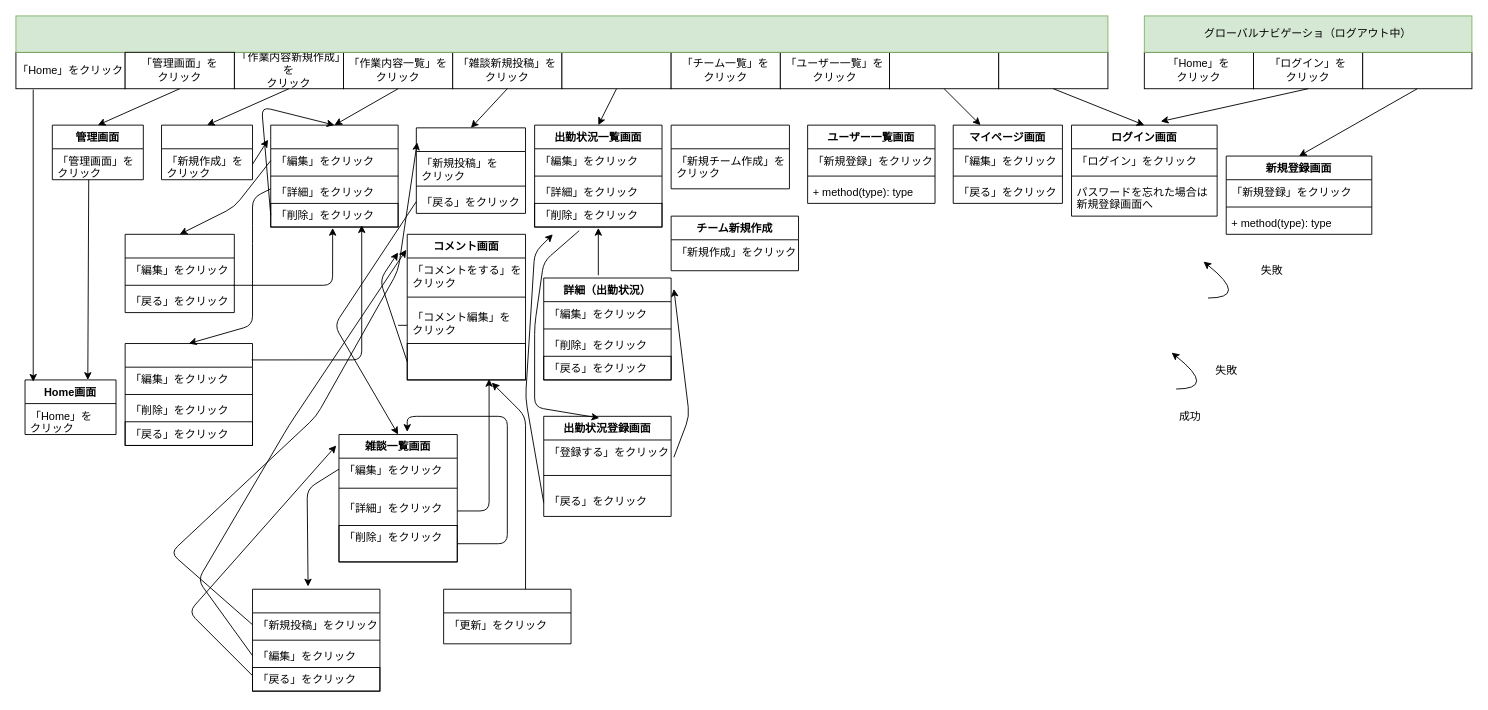
This 1488x710 diagram has some shape labels left out. Each missing label, with the box of its shape:
「コメント削除」を クリック: (406, 343, 526, 380)
「マイページ」を クリック: (889, 51, 999, 89)
「ログアウト」を クリック: (998, 51, 1108, 89)
「出勤状況」を クリック: (561, 51, 671, 89)
「新規登録」を クリック: (1362, 51, 1472, 89)
グローバルナビゲーション（ログイン中）/TeamWORKをクリックするとトップページへ: (15, 15, 1108, 52)
コメント編集: (443, 588, 571, 644)
チーム一覧画面: (670, 124, 789, 189)
作業内容一覧画面: (270, 124, 398, 227)
作業内容新規作成: (161, 124, 253, 180)
編集（作業内容）: (124, 233, 234, 313)
編集（雑談）: (252, 588, 380, 691)
詳細（作業内容）: (124, 343, 253, 445)
雑談新規投稿画面: (415, 127, 526, 213)
